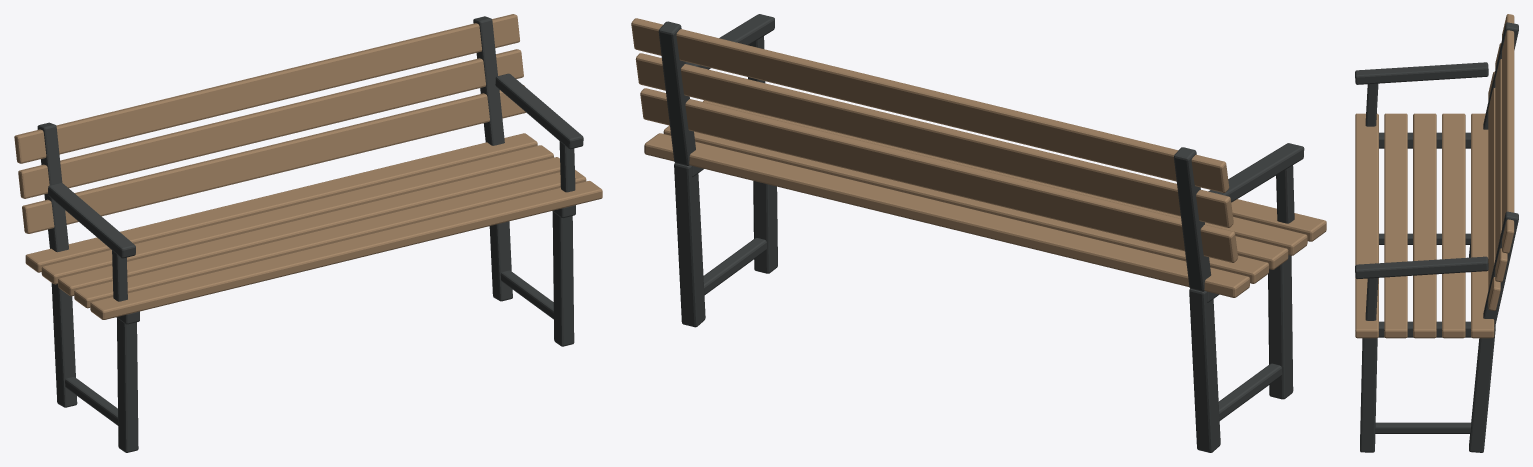
Rendered from park_bench.glb.
3 renders of one model, left to right at view 1: azimuth 30°, elevation 25°; view 2: azimuth 150°, elevation 25°; view 3: azimuth 270°, elevation 25°, orthographic. The views are drawn at different scales.
Visible parts, largest first — view 1: Park bench; view 2: Park bench; view 3: Park bench.
Boxes of the visible parts, box(x1,y1,x2,y2) form: Park bench: box(14, 14, 602, 452); Park bench: box(631, 14, 1326, 452); Park bench: box(1355, 14, 1518, 452).
Size of the model in its own units: 1.7 by 0.8649 by 0.5418.
